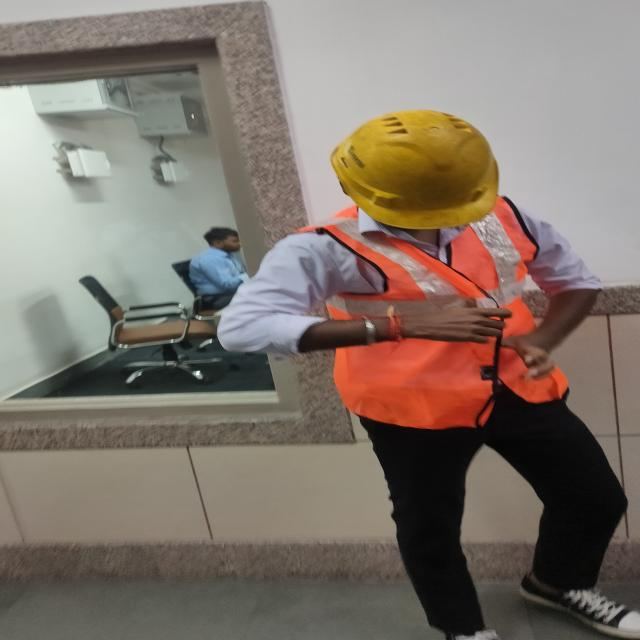safe: (257, 110, 640, 639)
unsafe: (176, 220, 256, 315)
